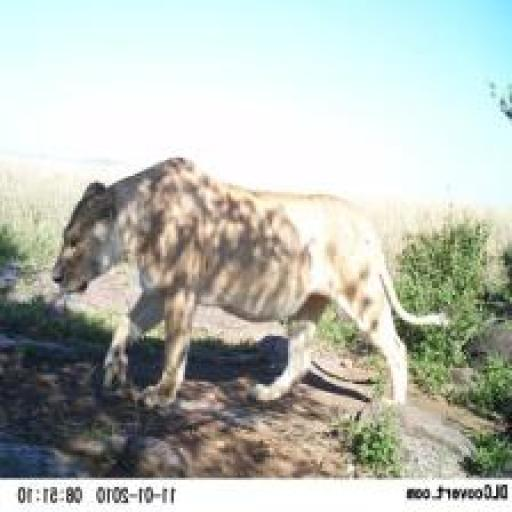lion: (44, 142, 458, 436)
